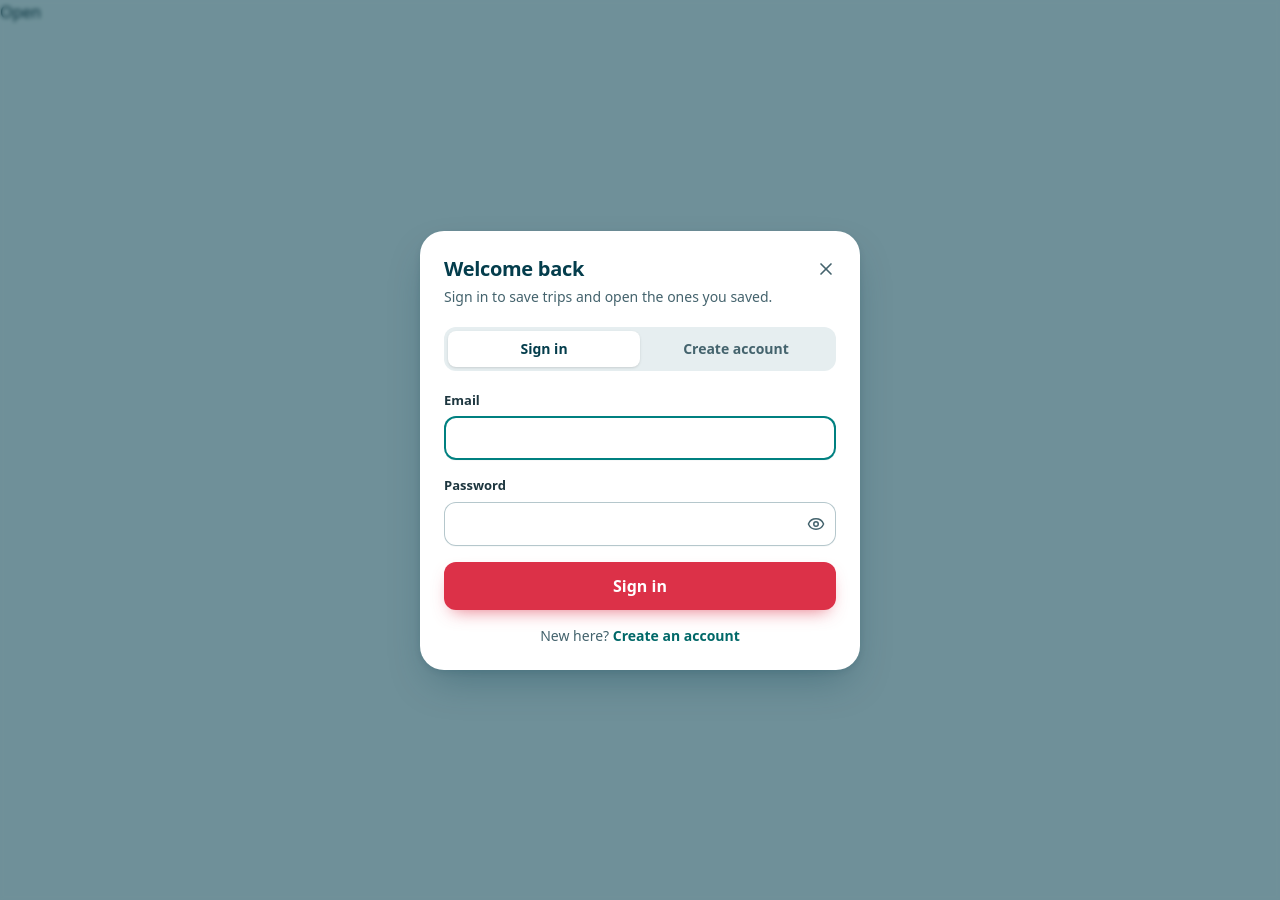
Test: AuthDialog › checks before sending › asks for both fields and sends nothing
Click the button with test id "btn-auth-submit".
click(640, 586)  # box left=444, top=562, right=836, bottom=610
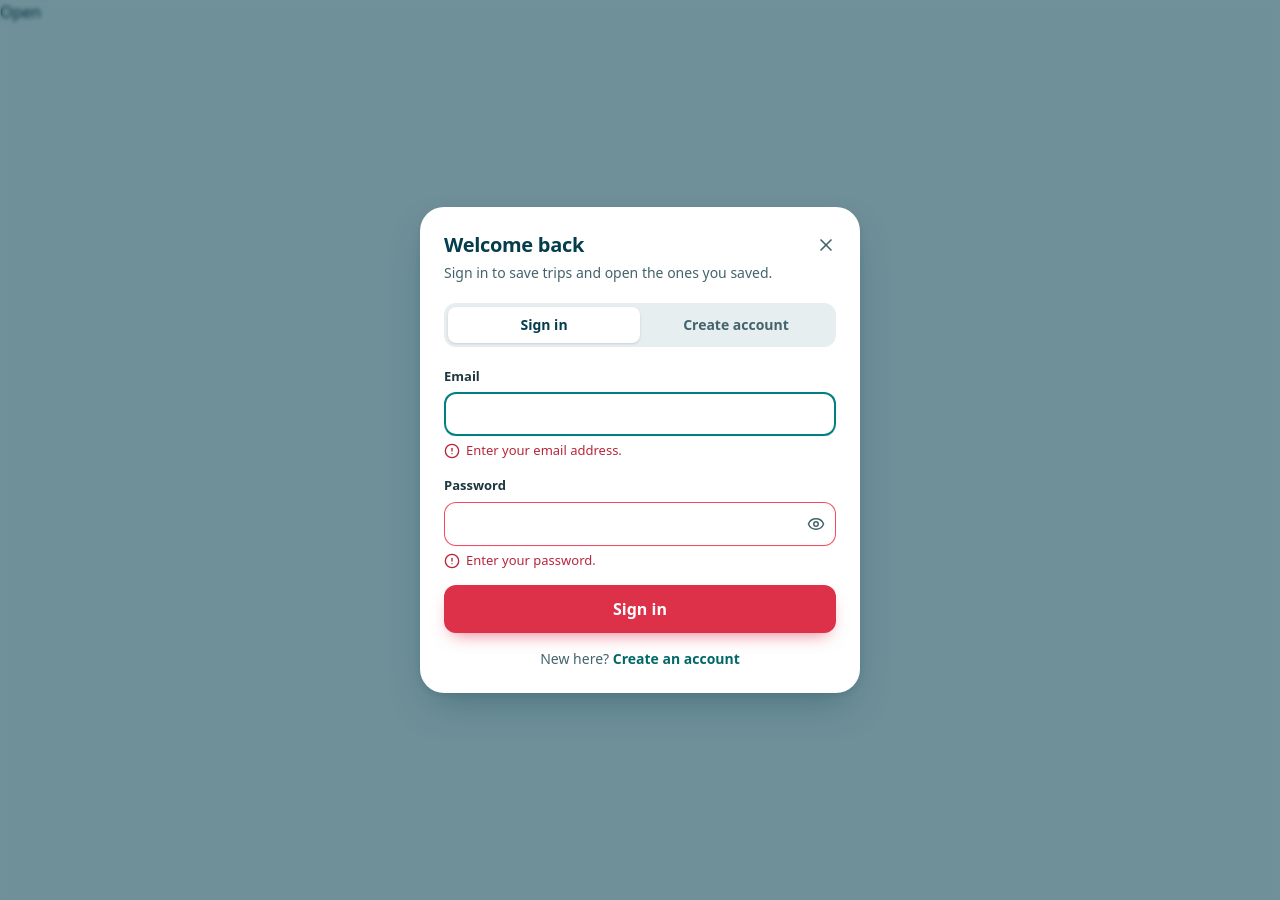
Now the text "Enter your email address." is shown, box left=466, top=442, right=622, bottom=460
Now the text "Enter your password." is shown, box left=466, top=552, right=596, bottom=569
